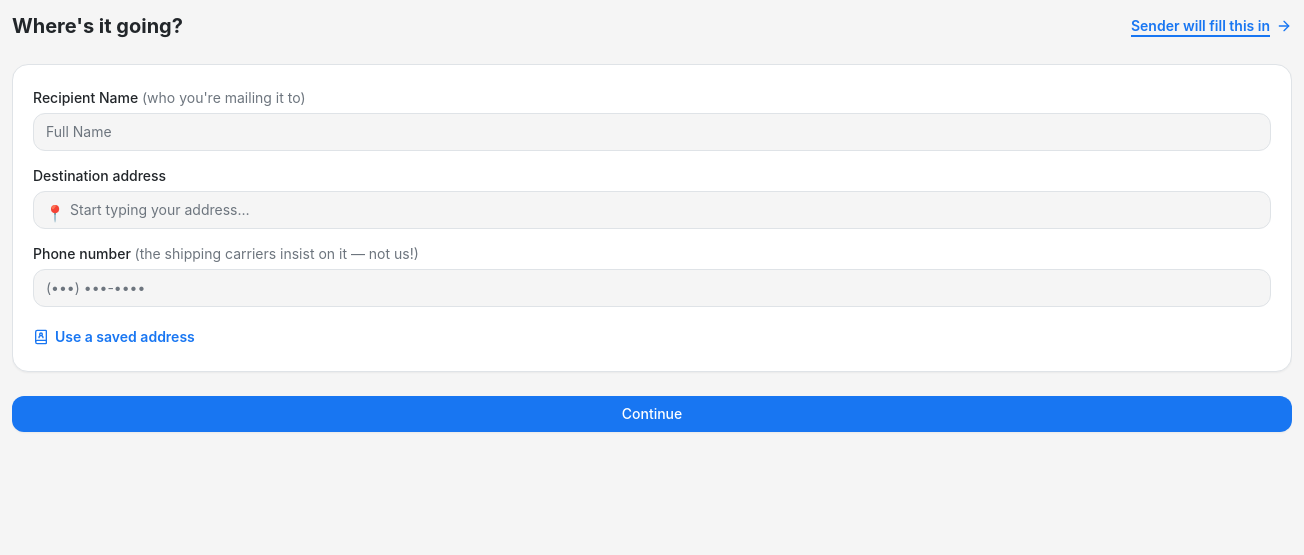
Test: RecipientStepAddress › collapses the append-only log to one entry per address
Click the button "Use a saved address" at (114, 337), box x1=25 y1=323 x2=203 y2=351
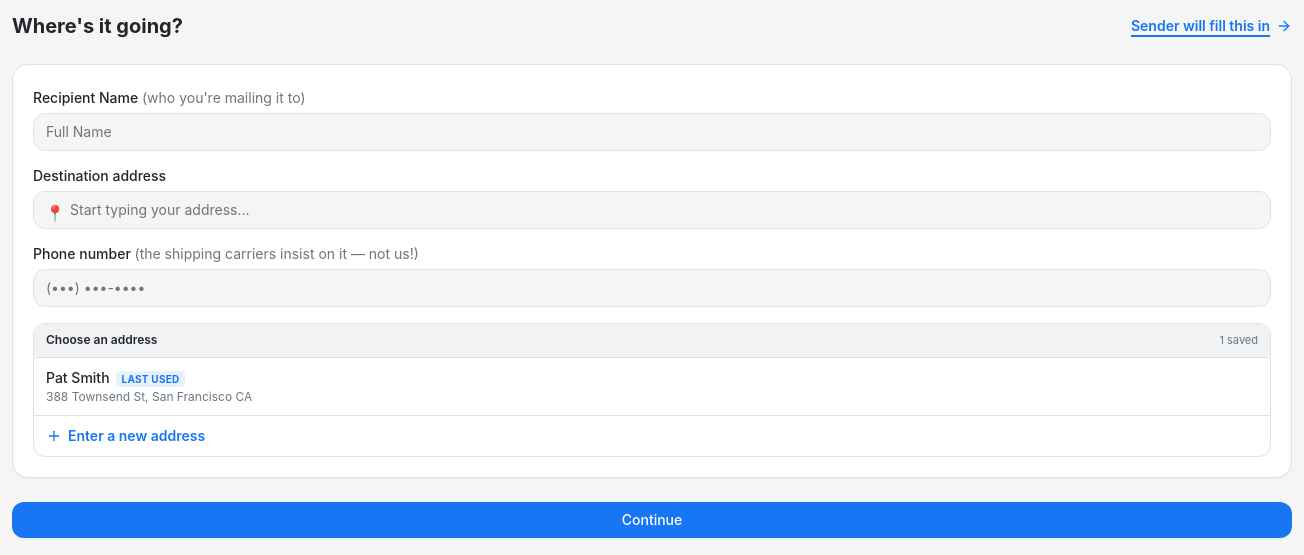
Expected: the text "388 Townsend St, San Francisco CA" is shown once, x1=46 y1=388 x2=252 y2=404
